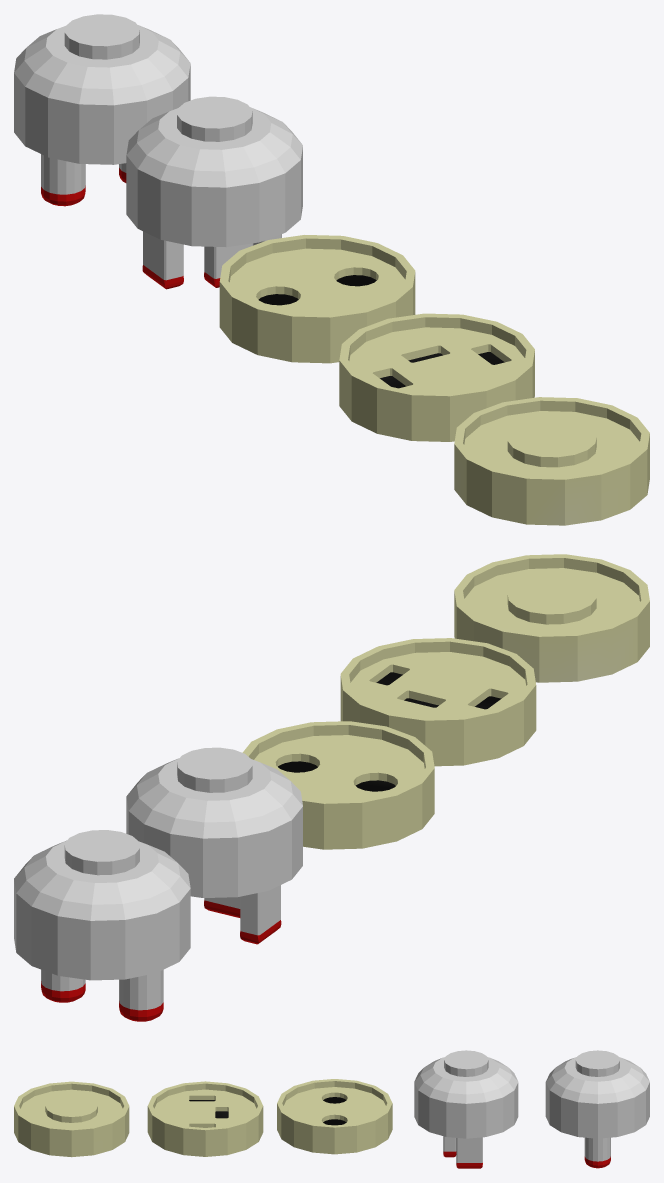
The model's file is Plugs.fbx.
3 views of the same model, one above another, from view 1: azimuth 30°, elevation 25°; view 2: azimuth 150°, elevation 25°; view 3: azimuth 270°, elevation 25° (orthographic). The views are drawn at different scales.
Parts seen in each view (by area): view 1: ConnectorOne, ConnectorTwo, SocketCable, SocketOne, SocketTwo; view 2: ConnectorTwo, ConnectorOne, SocketCable, SocketOne, SocketTwo; view 3: ConnectorOne, ConnectorTwo, SocketOne, SocketCable, SocketTwo.
Boxes of the visible parts, x1,y1,x2,y2 form: ConnectorOne: (126, 96, 302, 289); ConnectorTwo: (14, 14, 190, 206); SocketCable: (454, 397, 649, 525); SocketOne: (339, 313, 534, 441); SocketTwo: (219, 235, 415, 363); ConnectorTwo: (14, 830, 190, 1021); ConnectorOne: (126, 747, 302, 944); SocketCable: (454, 554, 649, 682); SocketOne: (340, 638, 536, 766); SocketTwo: (242, 721, 434, 849); ConnectorOne: (414, 1050, 518, 1168); ConnectorTwo: (545, 1050, 649, 1168); SocketOne: (147, 1081, 263, 1156); SocketCable: (14, 1081, 129, 1157); SocketTwo: (277, 1079, 392, 1154).
Bounding box in the file's own units: 185 × 157 × 967.
